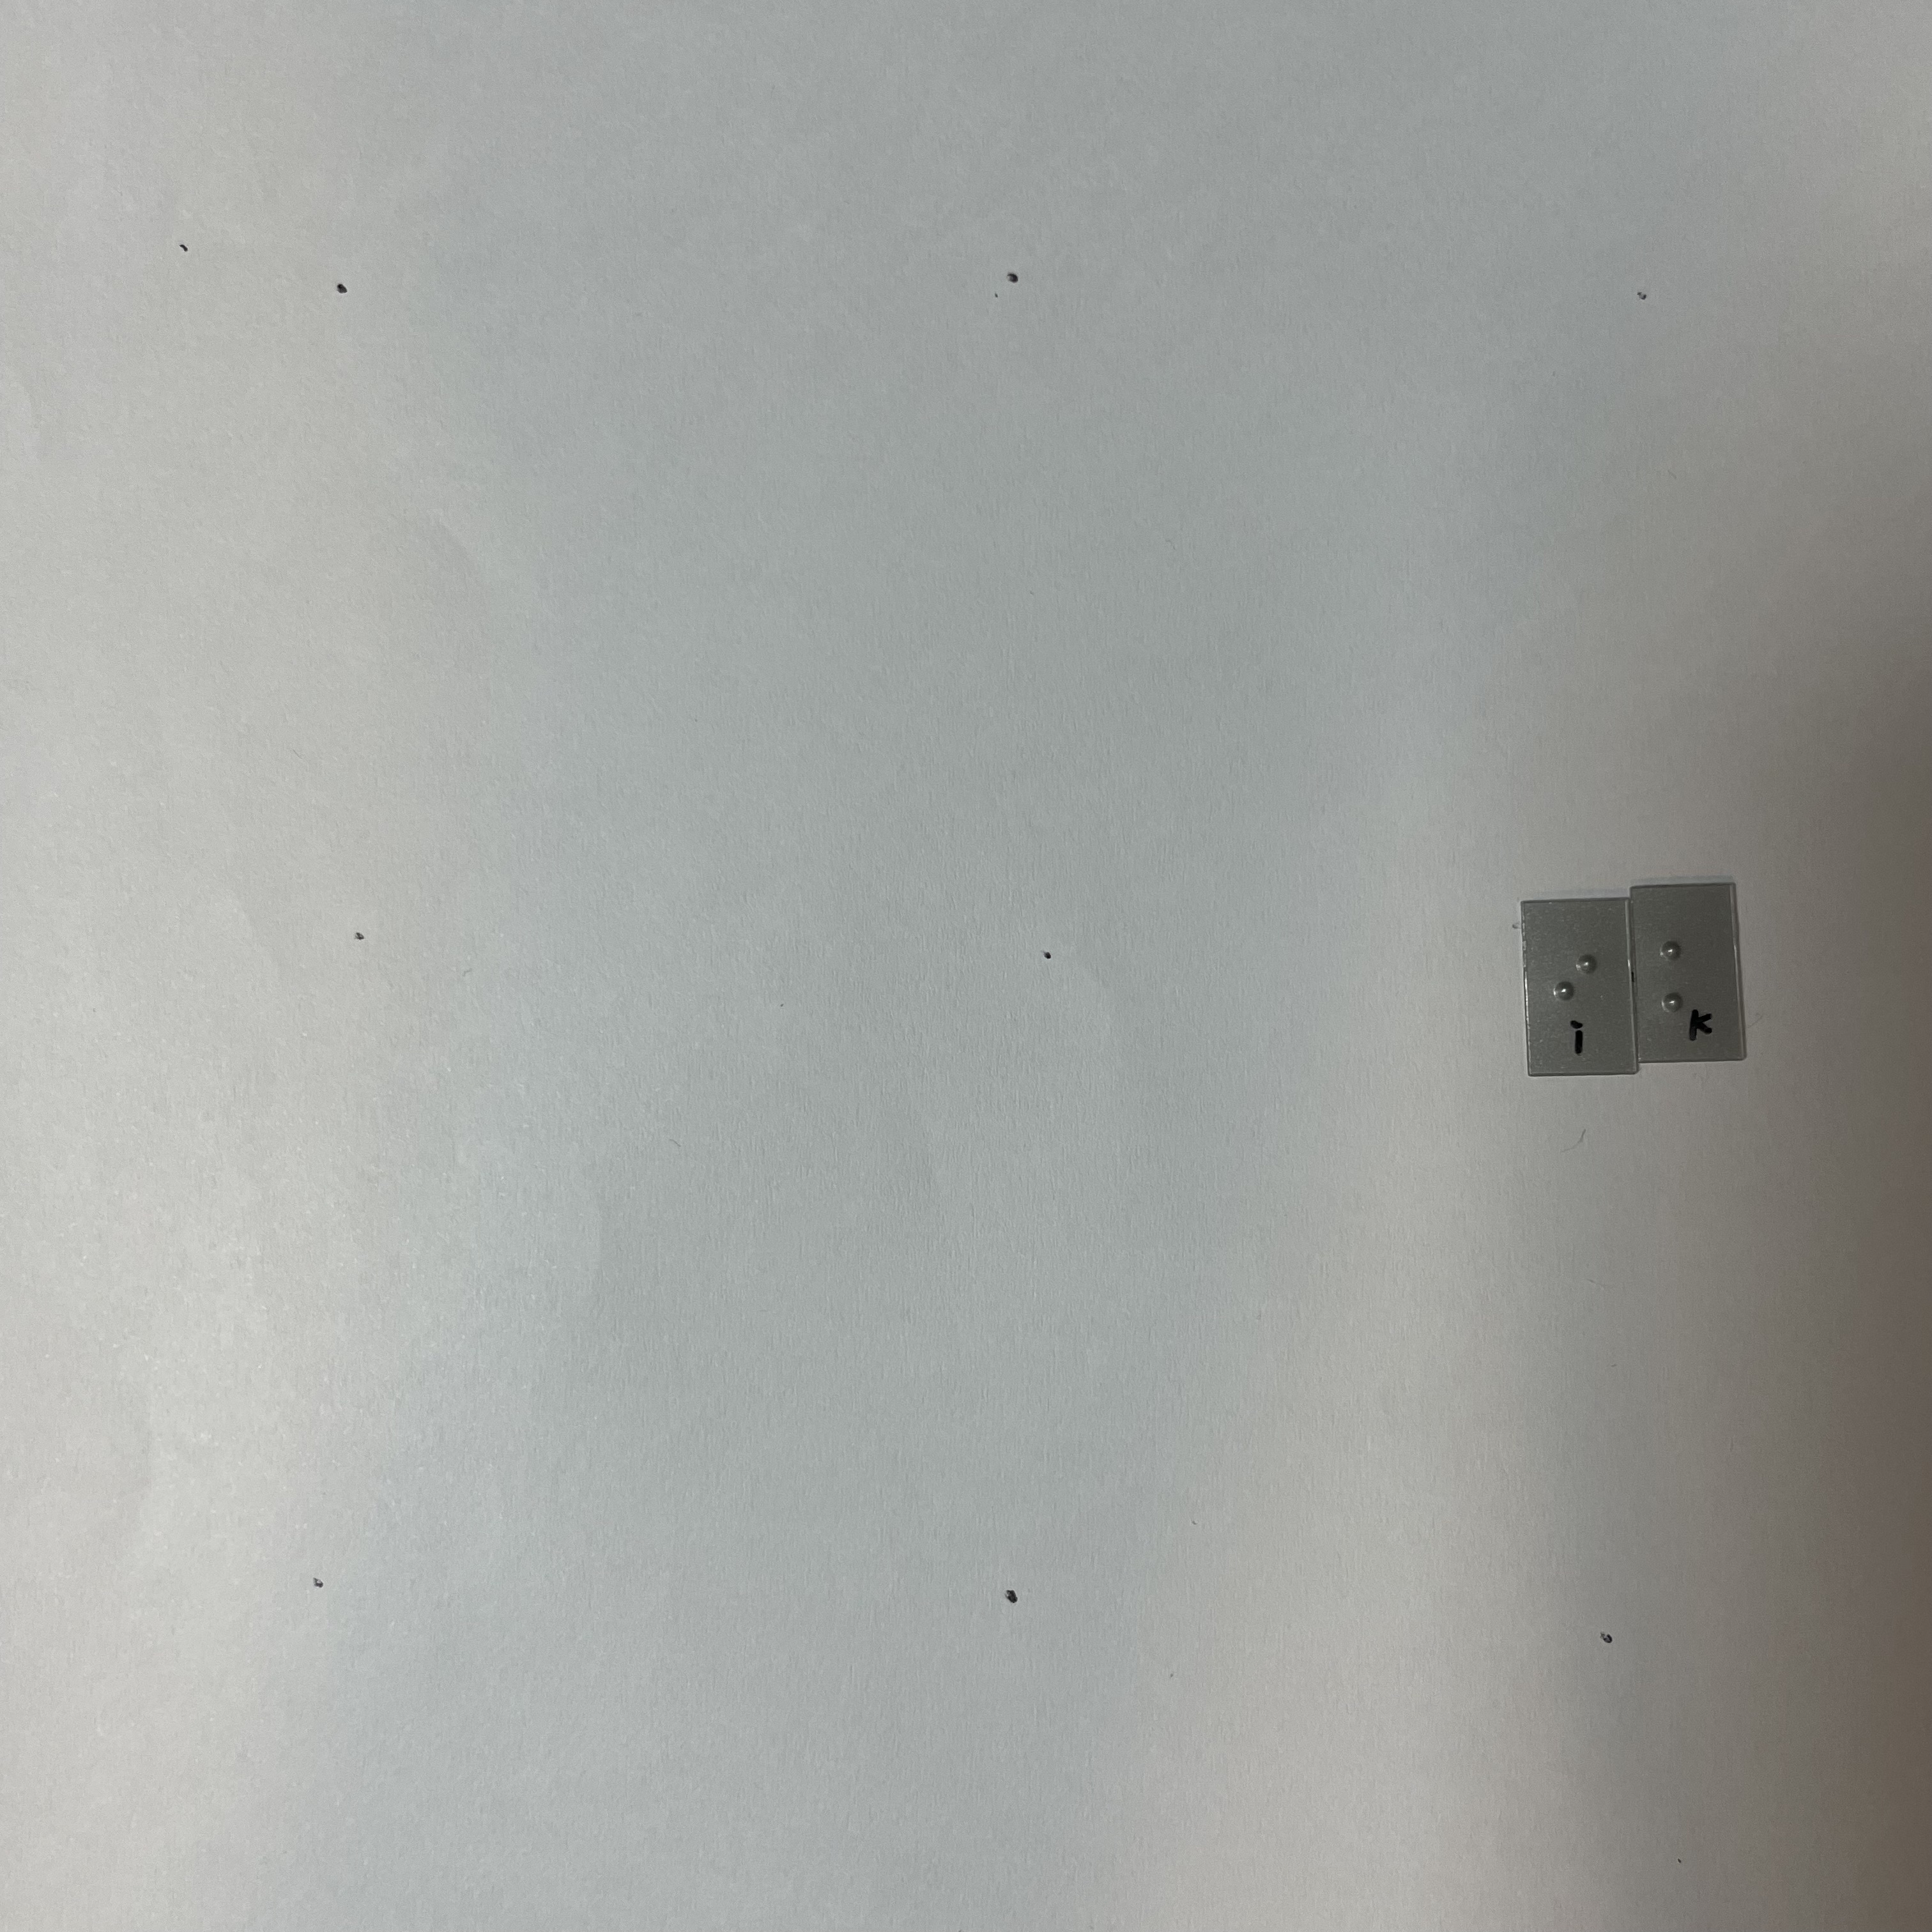i: (1547, 945, 1602, 1015)
k: (1650, 927, 1714, 1013)
